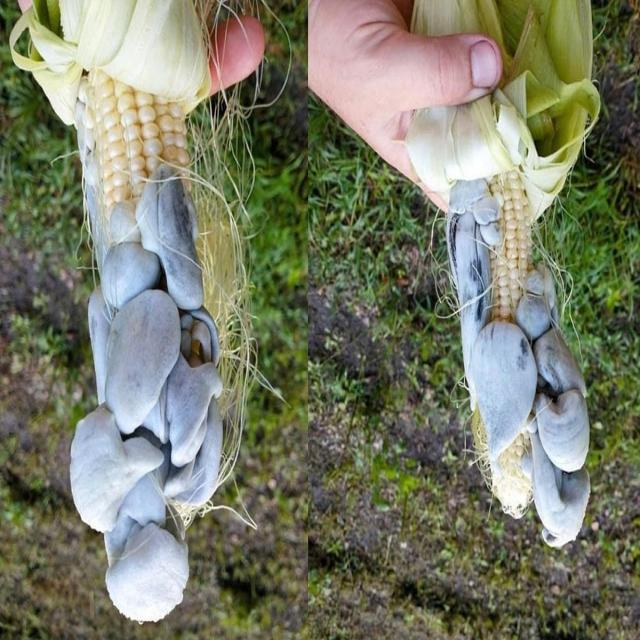Leaf_Scald: (35, 110, 303, 640), (419, 115, 637, 567)
